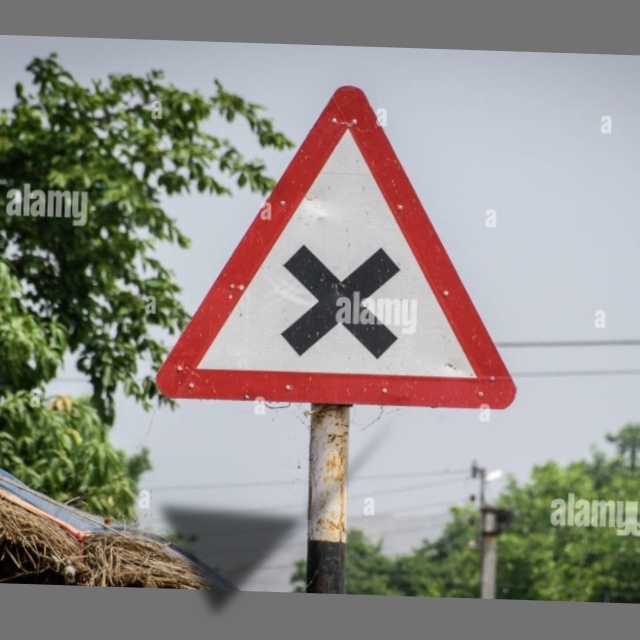Cross_Road: (154, 77, 530, 408)
